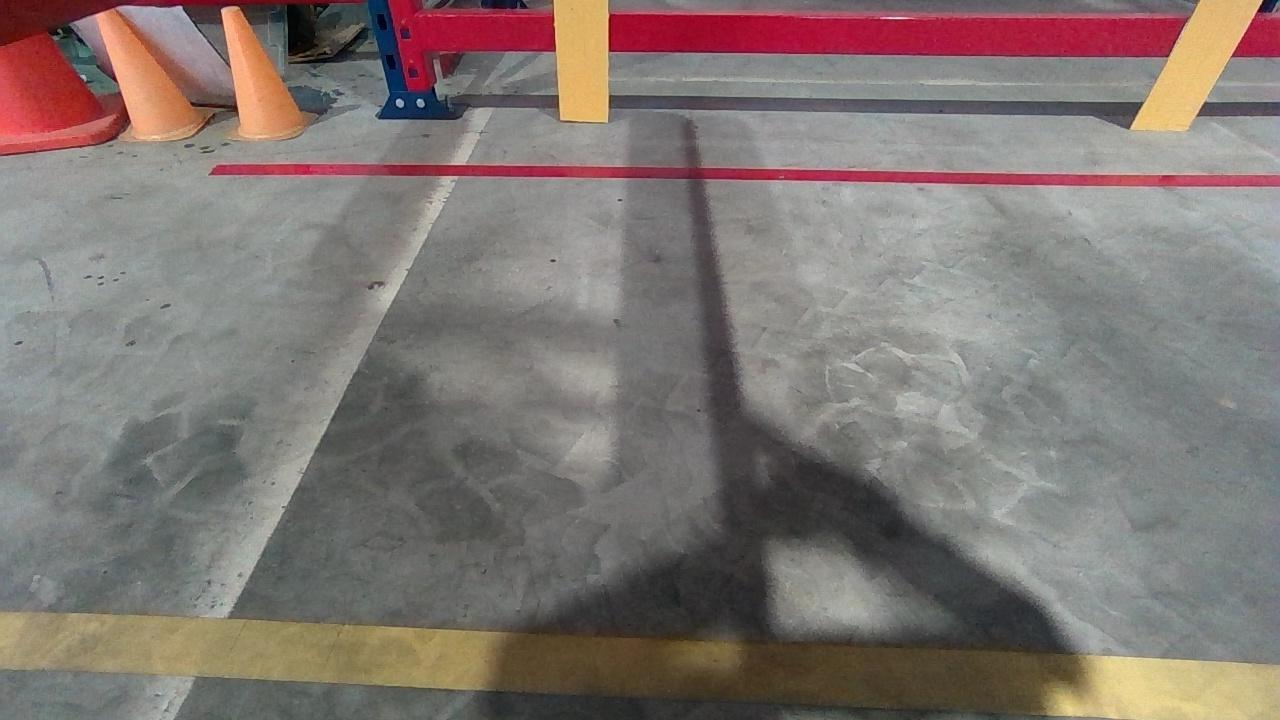orange_strip: (1127, 0, 1267, 130), (553, 0, 609, 119)
red_line: (209, 160, 1279, 188)
yellow_line: (0, 605, 1280, 720)
